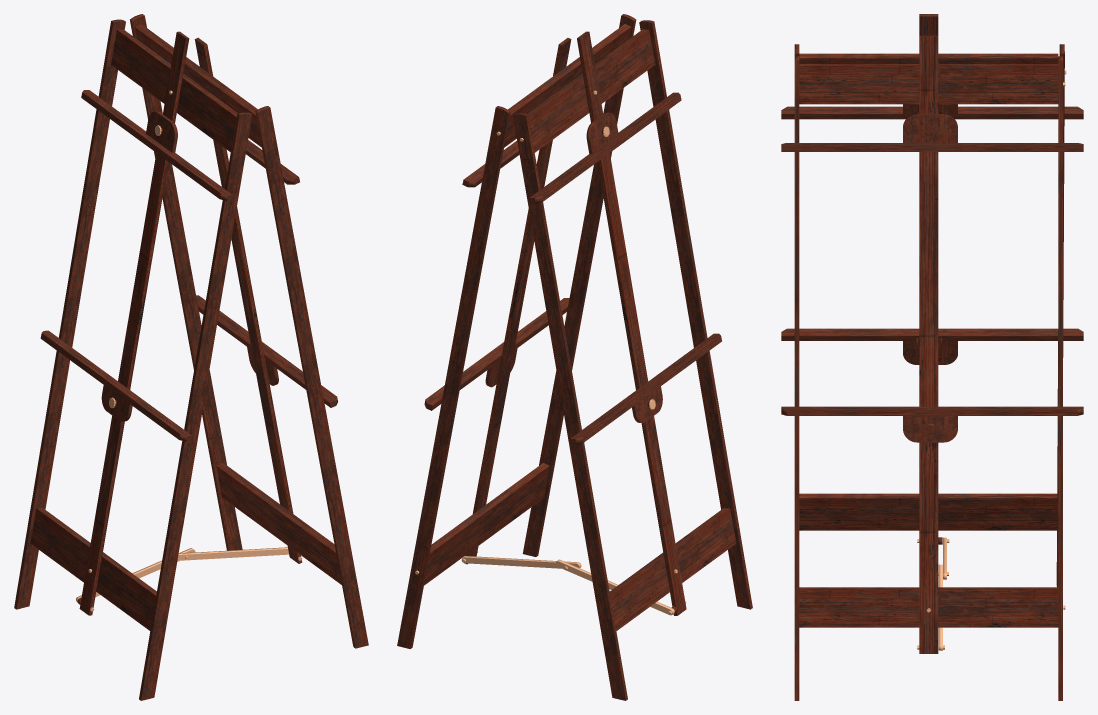
Rendered from easel.fbx.
3 views of the same model, side by side, from view 1: azimuth 30°, elevation 25°; view 2: azimuth 150°, elevation 25°; view 3: azimuth 270°, elevation 25° (orthographic). The views are drawn at different scales.
Parts seen in each view (by area): view 1: Main.004; view 2: Main.004; view 3: Main.004.
Boxes of the visible parts, left/top/right/bottom form: Main.004: left=14, top=14, right=368, bottom=700; Main.004: left=397, top=14, right=752, bottom=700; Main.004: left=781, top=14, right=1083, bottom=700.
Size of the model in its own units: 90.68 by 226 by 99.22.
Materials: 2 (1 with a texture image).
